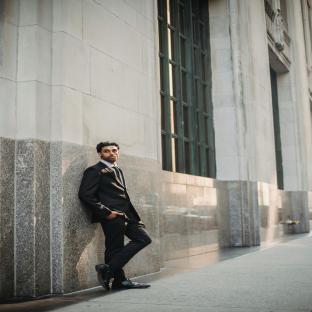Human: (78, 142, 151, 291)
